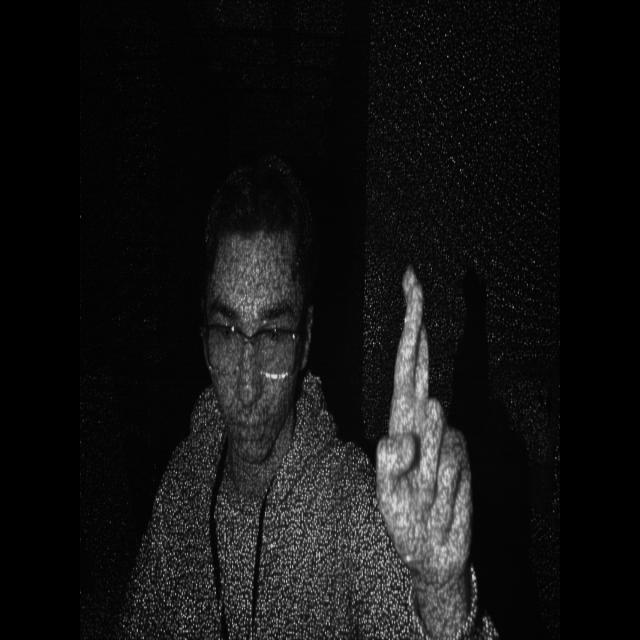R: (370, 252, 500, 620)
